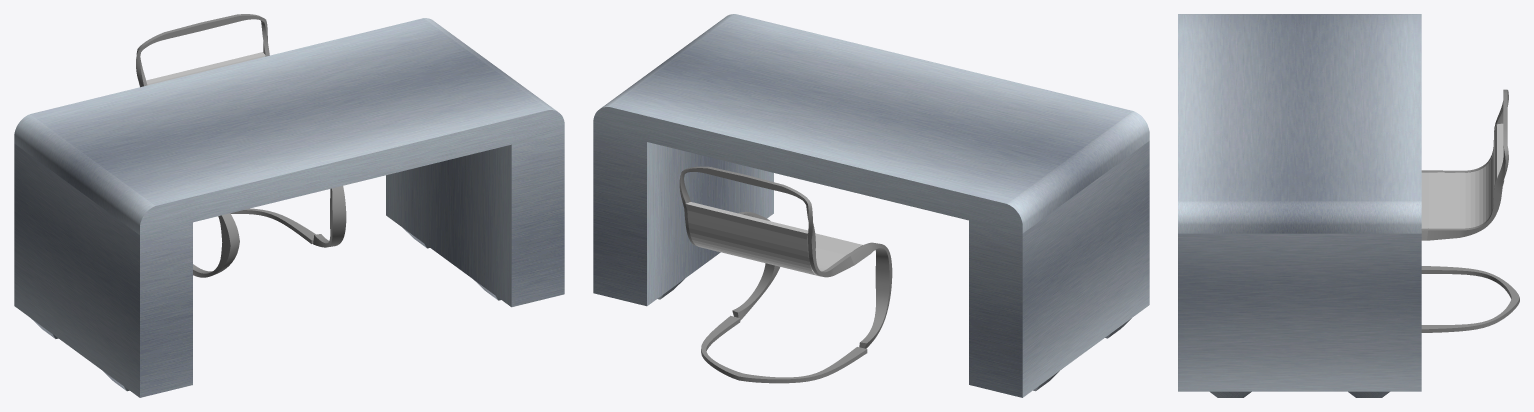
The model's file is Desk+Chair_Set.FBX.
3 renders of one model, left to right at view 1: azimuth 30°, elevation 25°; view 2: azimuth 150°, elevation 25°; view 3: azimuth 270°, elevation 25°, orthographic. The views are drawn at different scales.
Parts seen in each view (by area): view 1: Box001, Chair_Frame, Chair_Saddle; view 2: Box001, Chair_Frame, Chair_Saddle; view 3: Box001, Chair_Saddle, Chair_Frame.
Part boxes in pixels (bbox=[...]): Box001: bbox=[14, 18, 564, 397]; Chair_Frame: bbox=[136, 14, 346, 277]; Chair_Saddle: bbox=[146, 52, 265, 85]; Box001: bbox=[593, 14, 1149, 397]; Chair_Frame: bbox=[679, 166, 892, 383]; Chair_Saddle: bbox=[685, 202, 862, 276]; Box001: bbox=[1178, 14, 1421, 397]; Chair_Saddle: bbox=[1421, 123, 1504, 228]; Chair_Frame: bbox=[1421, 89, 1519, 332].
Bounding box in the file's own units: 231 × 107 × 166.
